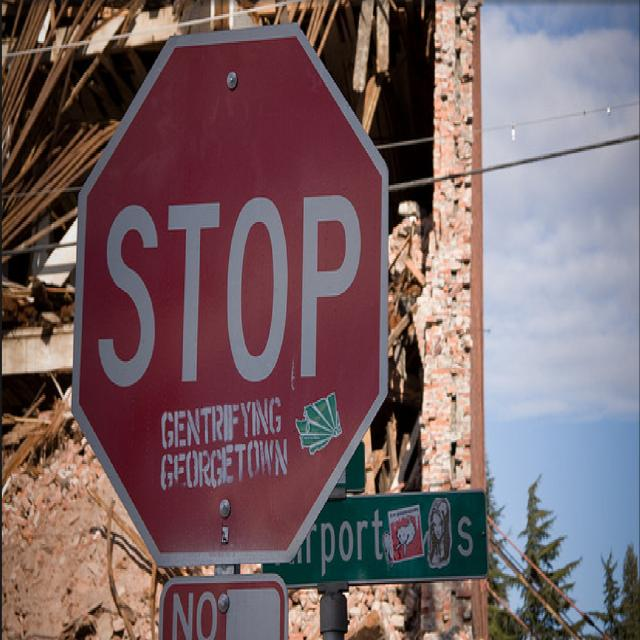STOP: (72, 32, 389, 568)
